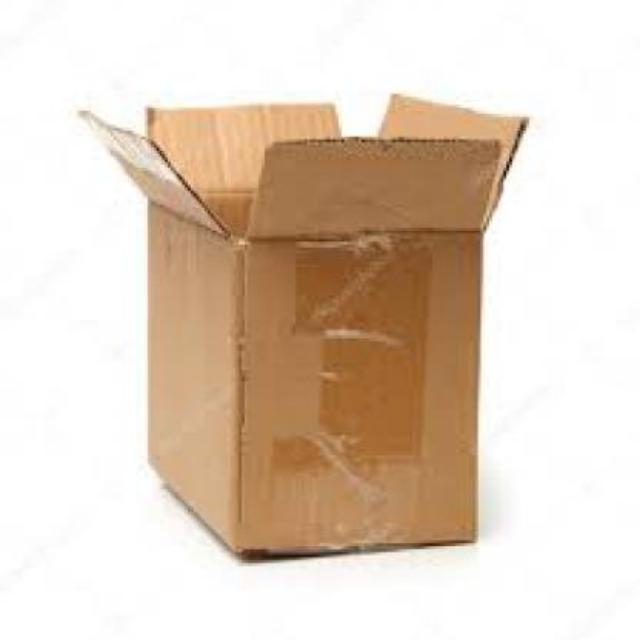cardboard_box: (76, 99, 534, 562)
